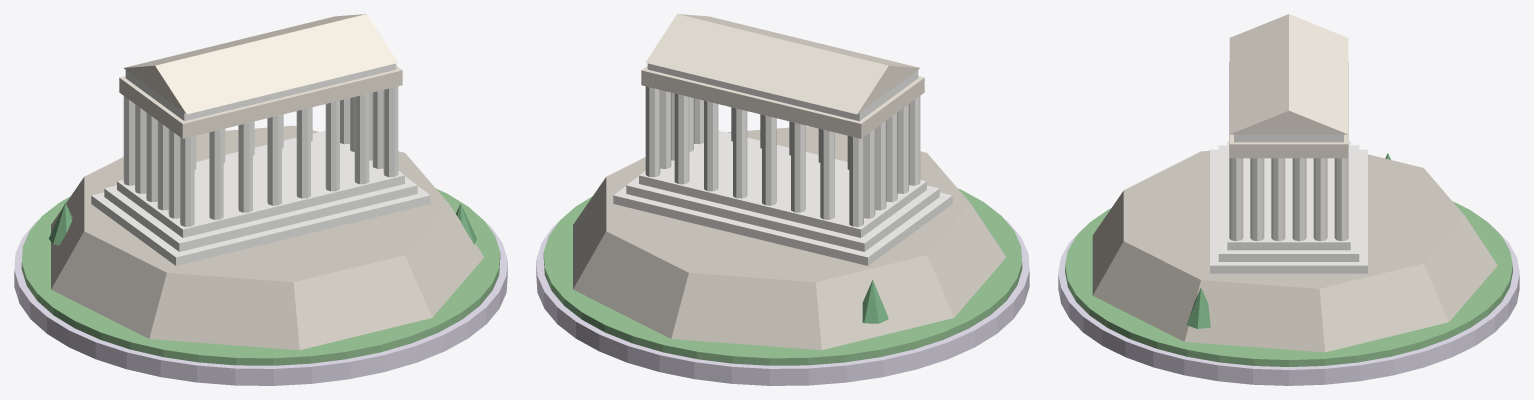
File: partenon.glb
3 views of the same model, side by side, from view 1: azimuth 30°, elevation 25°; view 2: azimuth 150°, elevation 25°; view 3: azimuth 270°, elevation 25° (orthographic). The views are drawn at different scales.
Parts seen in each view (by area): view 1: partenon; view 2: partenon; view 3: partenon.
Part boxes in pixels (x1,y1,x2,y2): partenon: (14, 14, 507, 385); partenon: (536, 14, 1029, 385); partenon: (1058, 14, 1519, 385).
Bounding box in the file's own units: 2.1 × 1.14 × 2.1.
1 material, 1 textured.
